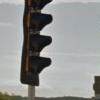Traffic light: (17, 4, 54, 88)
